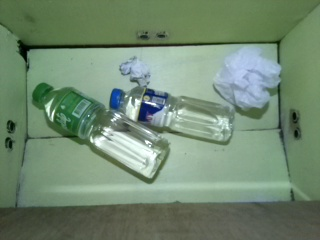bottle: (32, 81, 170, 181), (109, 86, 235, 146)
paper: (212, 45, 281, 119), (119, 55, 154, 87)
